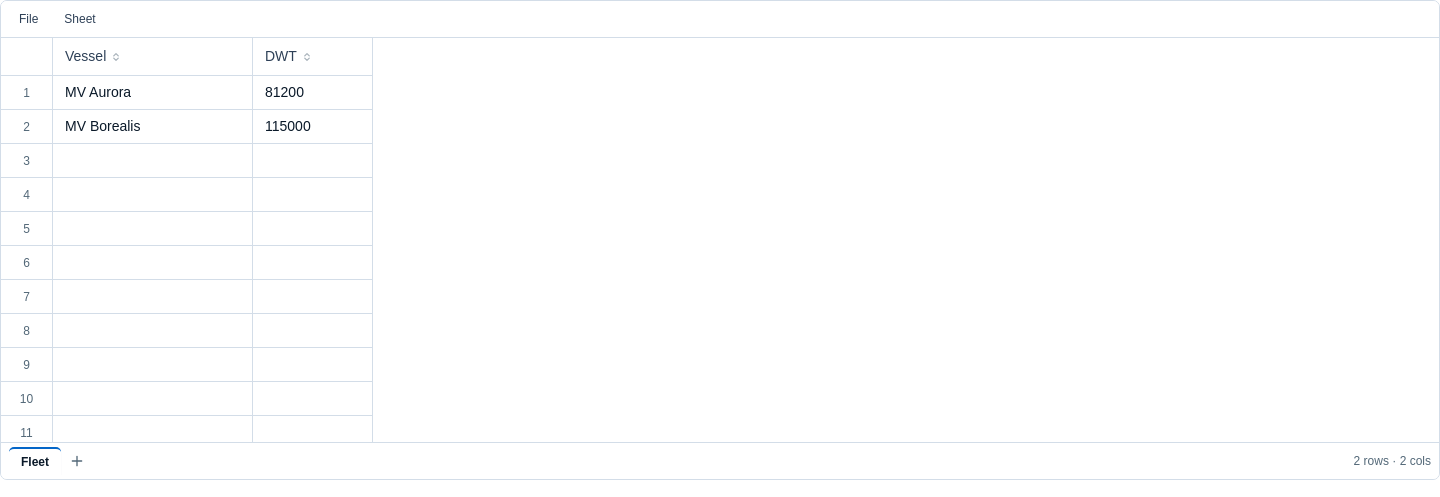
Test case: Spreadsheet › right-clicking a column header offers add-left/right and inserts a column
The image size is (1440, 497).
Right-click the column heading "Vessel": point(153, 57) [53, 38, 253, 76]
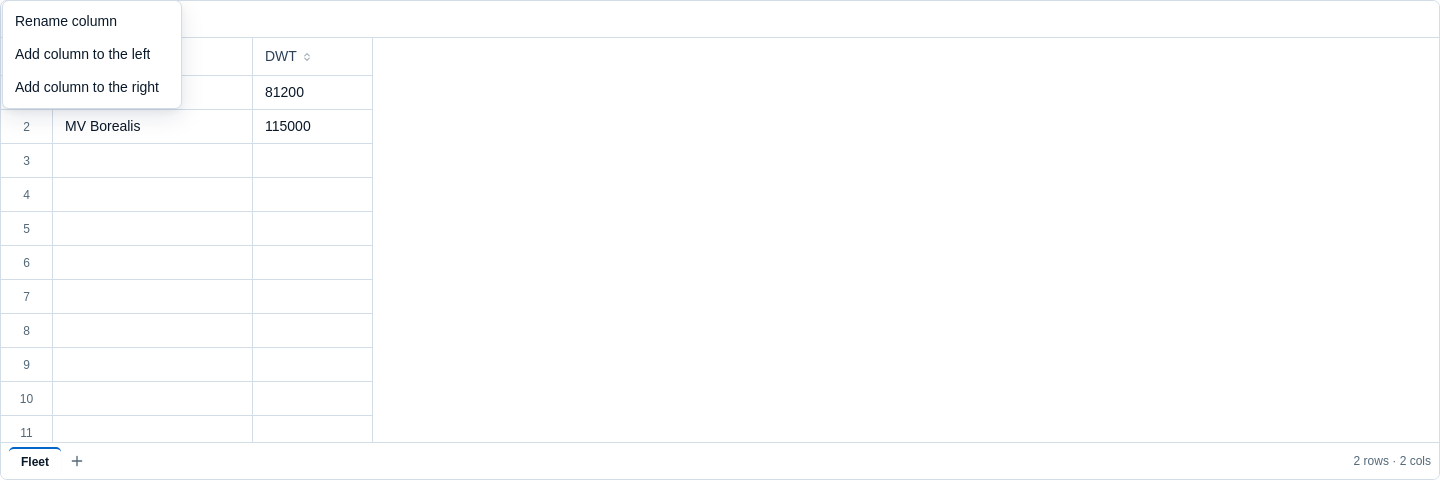
Now the menu item "Add column to the left" is shown, box [15, 46, 150, 62]
Click the menu item "Add column to the right": point(87, 87) [15, 79, 159, 95]
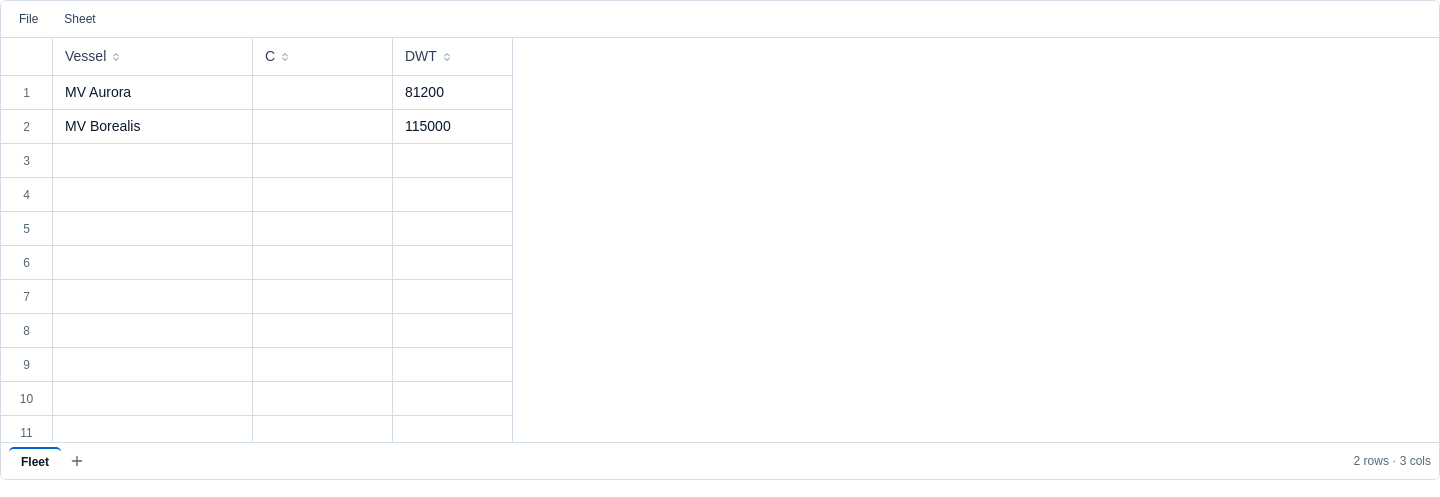
Now the number of column headings is 3, box [53, 38, 253, 76]; [253, 38, 393, 76]; [393, 38, 513, 76]
